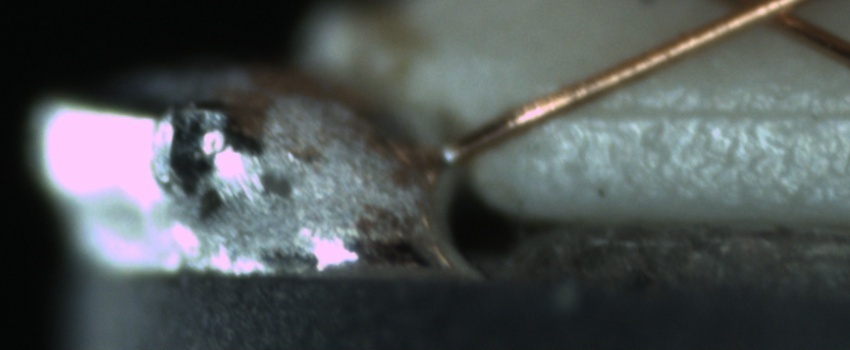CL: (704, 1, 823, 38)
DL: (571, 76, 841, 147)
